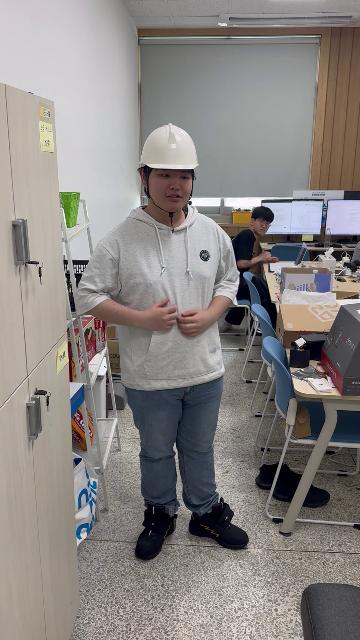helmet_worn: (138, 122, 201, 173)
shoe_worn: (189, 503, 251, 552), (139, 504, 178, 561)
vest_not_worn: (111, 213, 227, 402)
